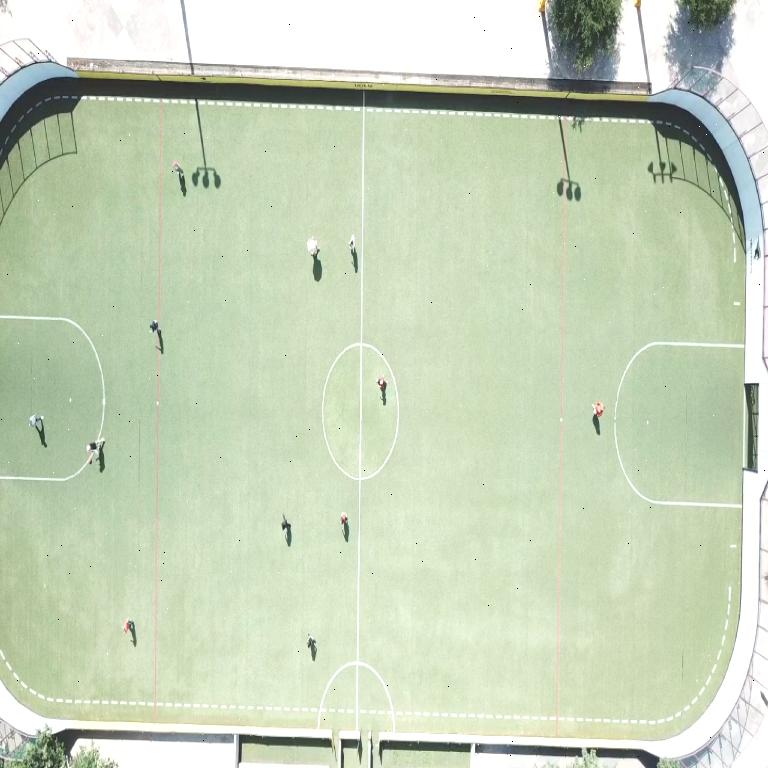AC: (614, 342, 743, 508), (0, 315, 105, 439)
B: (88, 458, 92, 463)
MC: (356, 260, 364, 729)
P: (87, 438, 105, 463), (377, 376, 386, 404), (308, 236, 319, 258), (174, 162, 184, 181), (29, 414, 43, 427), (592, 402, 604, 417), (307, 634, 316, 653), (150, 320, 161, 334), (281, 515, 290, 532), (124, 618, 133, 633), (349, 235, 355, 252), (341, 512, 347, 527)
